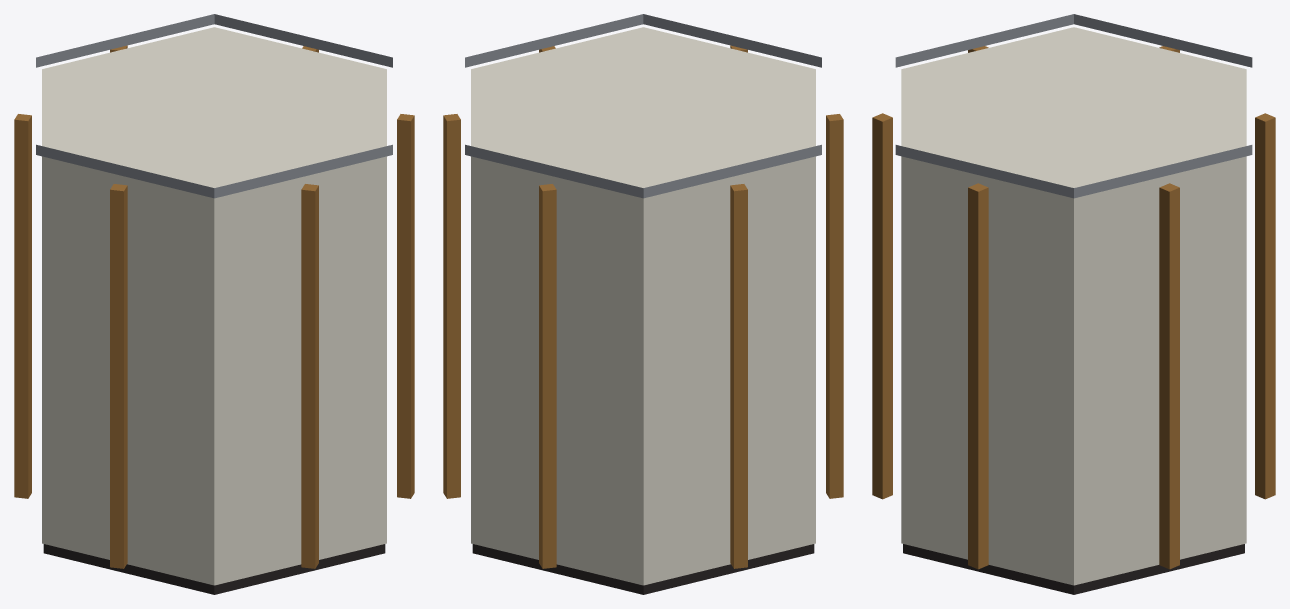
Rendered from ship_hull_plate.obj.
3 views of the same model, side by side, from view 1: azimuth 30°, elevation 25°; view 2: azimuth 150°, elevation 25°; view 3: azimuth 270°, elevation 25° (orthographic).
Visible parts, largest first — view 1: shell, rivet_strips, collars, aft_scorch; view 2: shell, rivet_strips, collars, aft_scorch; view 3: shell, rivet_strips, collars, aft_scorch.
Boxes of the visible parts, x1=… form: shell: x1=42, y1=27, x2=386, y2=585; rivet_strips: x1=14, y1=45, x2=414, y2=568; collars: x1=36, y1=14, x2=392, y2=198; aft_scorch: x1=43, y1=544, x2=385, y2=594; shell: x1=471, y1=27, x2=815, y2=585; rivet_strips: x1=443, y1=45, x2=843, y2=568; collars: x1=465, y1=14, x2=821, y2=198; aft_scorch: x1=472, y1=544, x2=814, y2=594; shell: x1=901, y1=27, x2=1246, y2=585; rivet_strips: x1=872, y1=46, x2=1275, y2=569; collars: x1=895, y1=14, x2=1252, y2=198; aft_scorch: x1=903, y1=544, x2=1244, y2=594.
Size of the model in its own units: 1.82 by 2 by 1.78.
